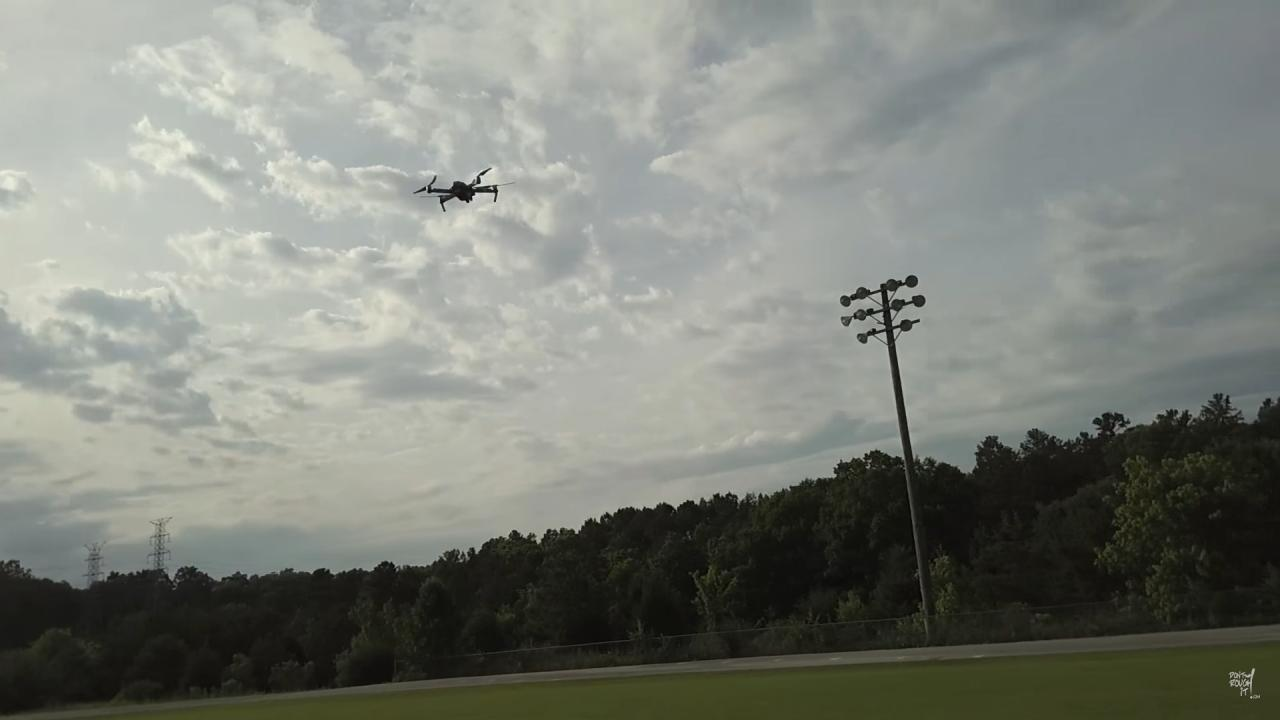Drone: (398, 155, 523, 223)
